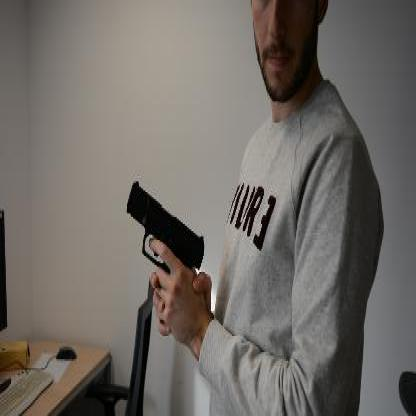pistol: (126, 180, 204, 324)
